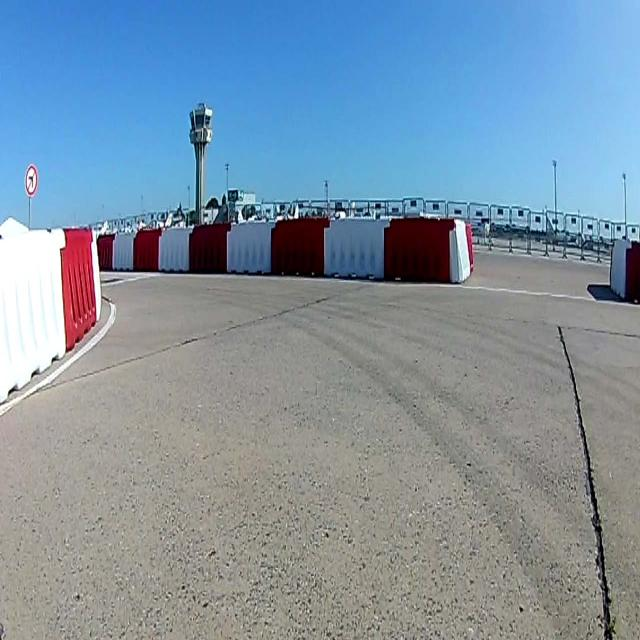soladonulmez: (24, 166, 38, 196)
